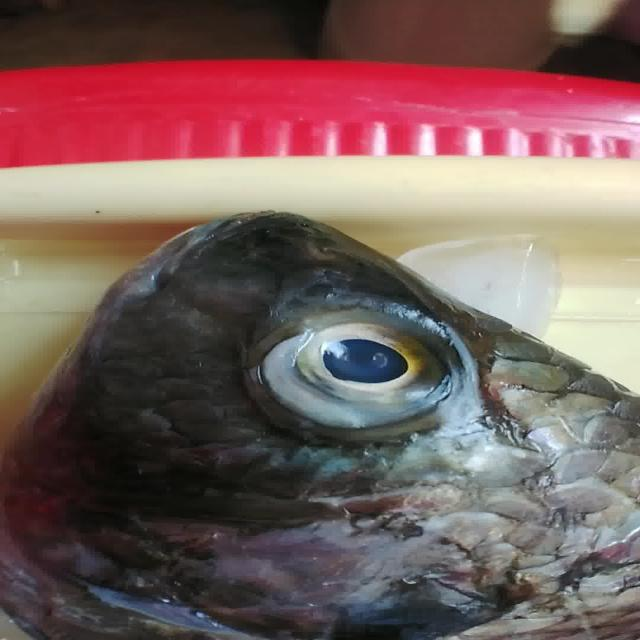Fresh: (218, 299, 490, 438)
